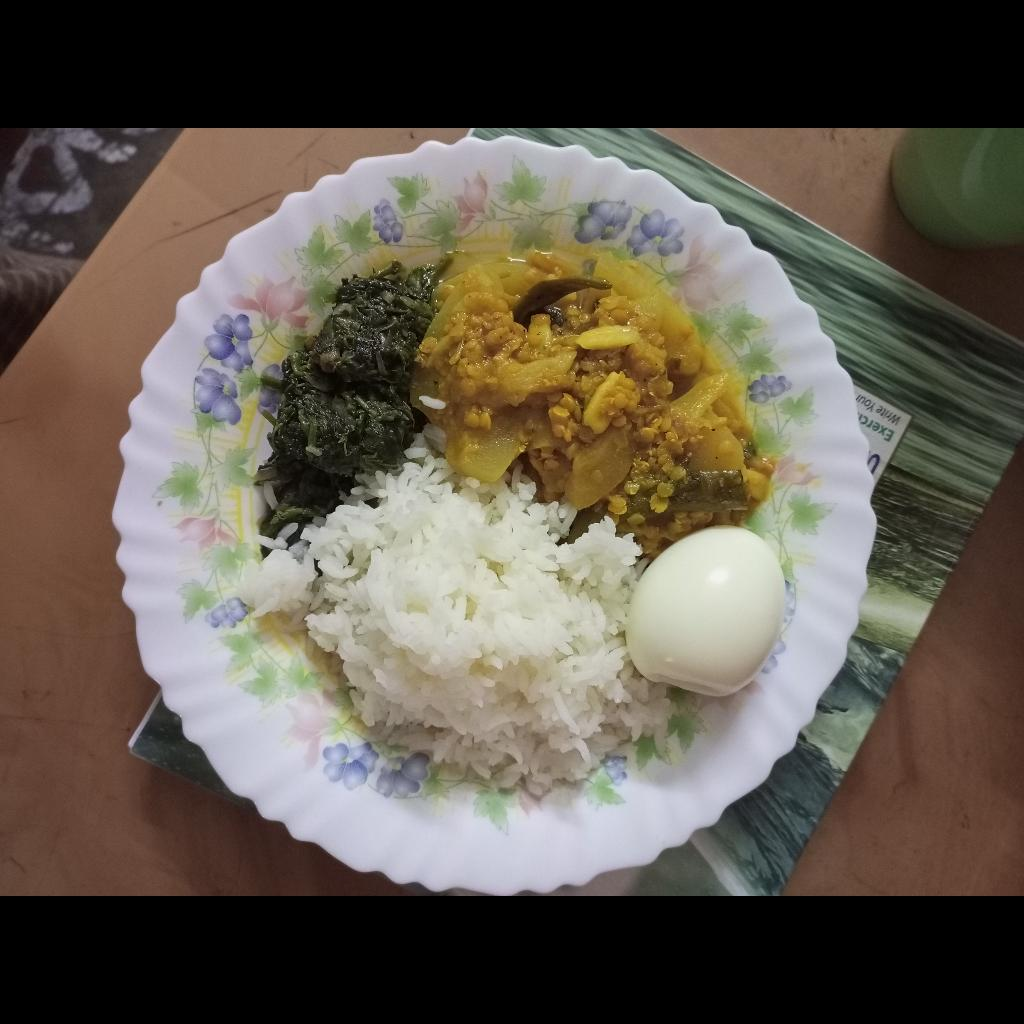egg-boiled: (625, 519, 785, 697)
lau: (412, 240, 777, 554)
rice: (233, 422, 675, 800)
shak: (248, 252, 454, 533)
